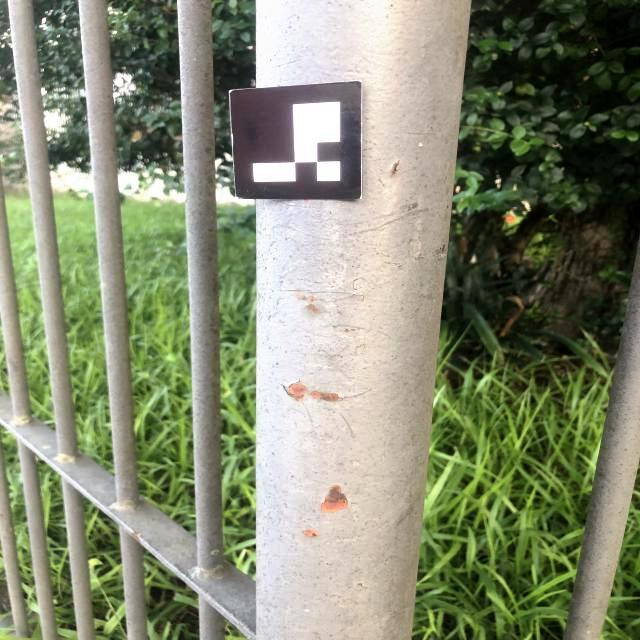Corrosion: (319, 484, 348, 514), (284, 380, 308, 403), (309, 390, 340, 402), (390, 161, 402, 175), (301, 529, 319, 537), (130, 531, 140, 544), (307, 303, 319, 312), (441, 246, 449, 254), (309, 295, 315, 303), (358, 584, 365, 590), (344, 328, 350, 334), (351, 327, 358, 332), (296, 294, 301, 298)
